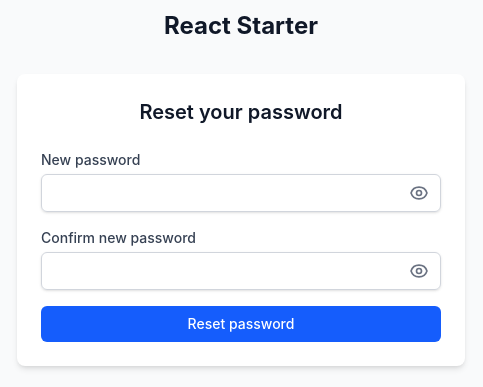
Test: ResetPasswordPage › shows success message after successful reset
Type "newpassword1" into the password field labelled "New password".
click(241, 193); type("newpassword1")  # box top-left (41, 174), bottom-right (441, 212)
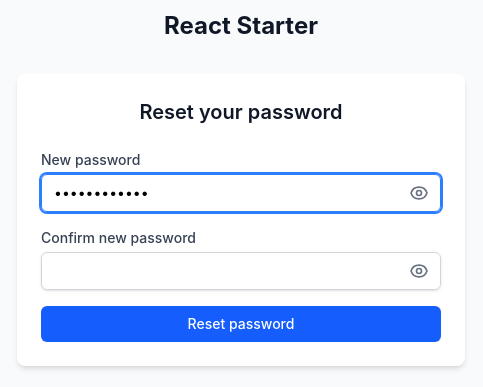
Type "newpassword1" into the password field labelled "Confirm new password".
click(241, 271); type("newpassword1")  # box top-left (41, 252), bottom-right (441, 290)
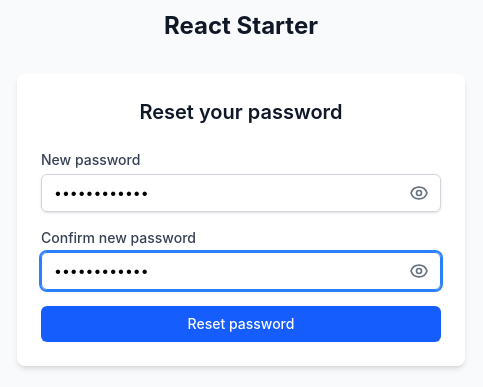
Click the button "Reset password".
click(241, 324)  # box top-left (41, 306), bottom-right (441, 342)
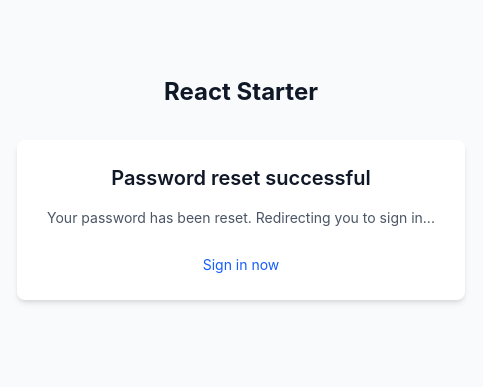
Expected: the heading "Password reset successful" is shown, top-left (111, 166), bottom-right (371, 190)
